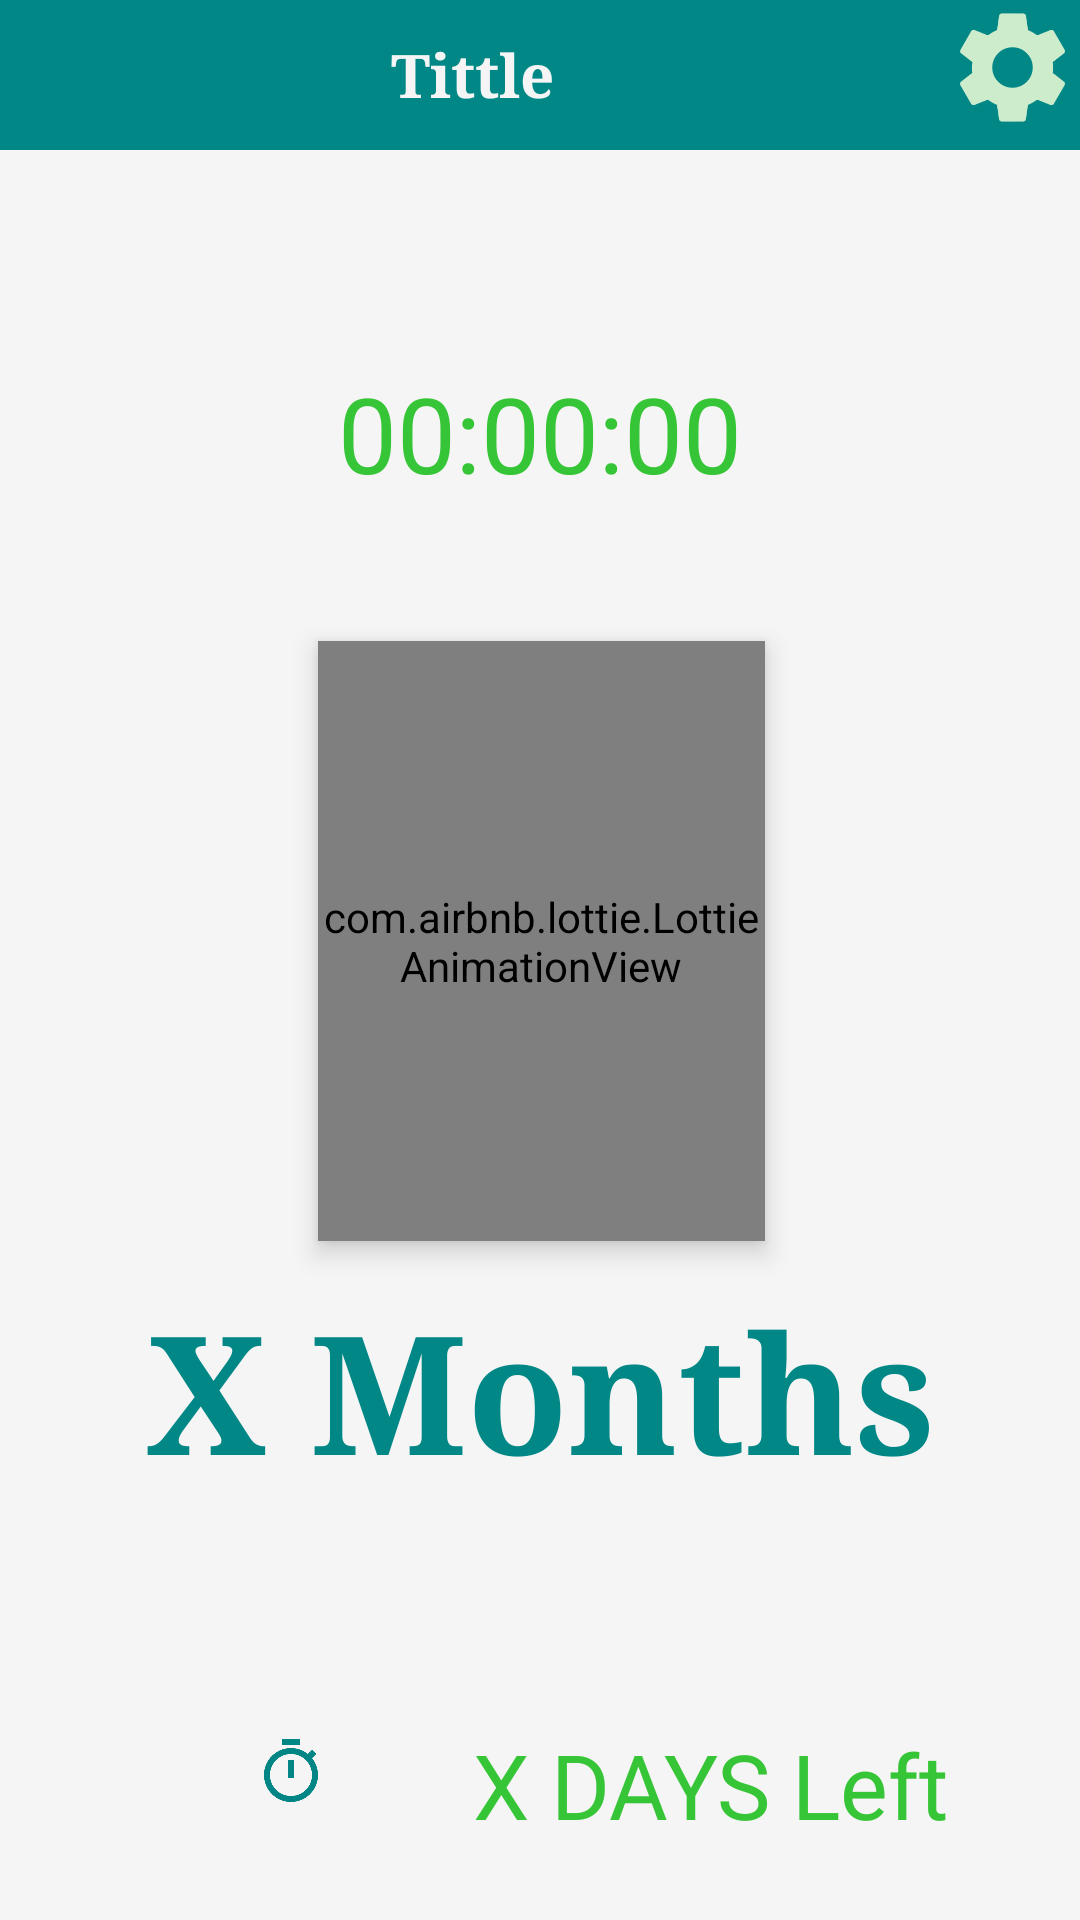

Named icons in this screenshot (1080x1920) and their bounding boxes, (x1, y1, x2, y2):
settings: (960, 13, 1065, 122)
timer: (264, 1739, 318, 1802)
